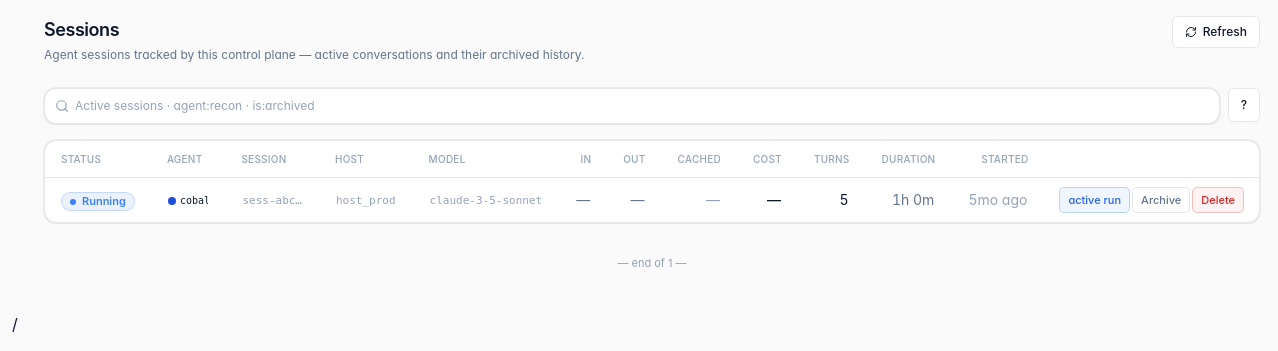
Test case: Sessions — whole-row navigation (rowHref) › clicking "active run" navigates to the run, not the session row
Step 1. Click the button "active run" → (1095, 200), box top-left (1060, 188), bottom-right (1129, 212)
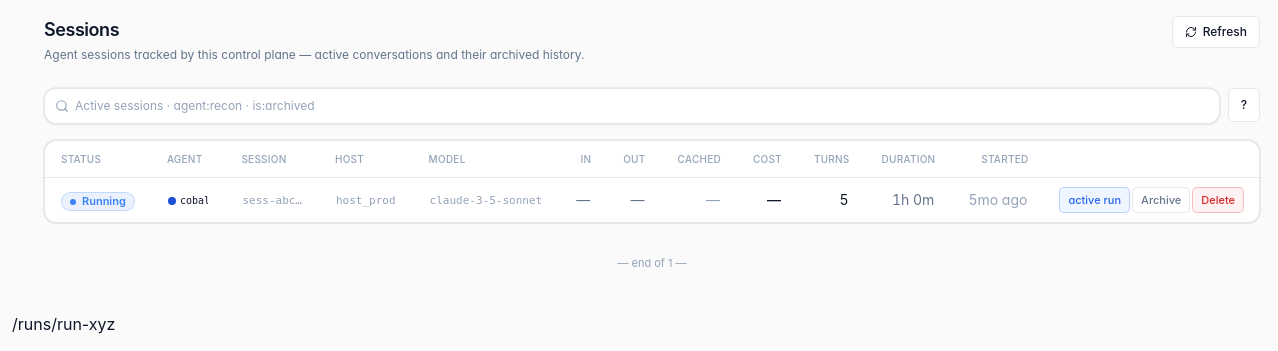
Now the text with test id "loc" reads "/runs/run-xyz", box top-left (12, 314), bottom-right (115, 334)
